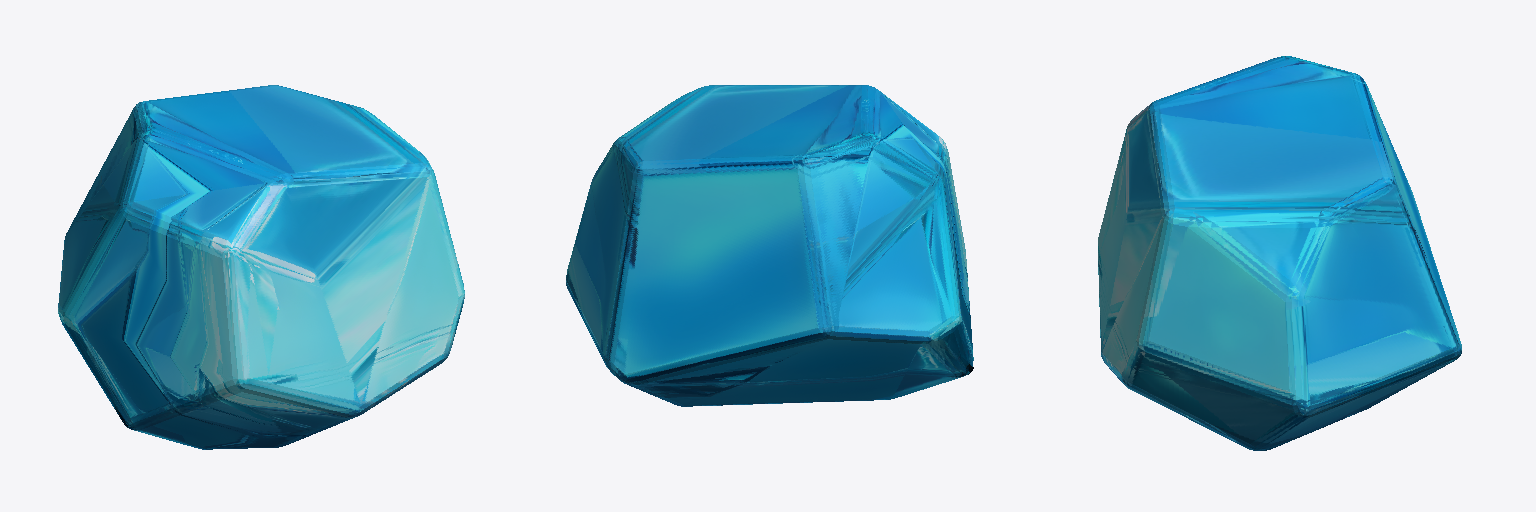
3 views of the same model, side by side, from view 1: azimuth 30°, elevation 25°; view 2: azimuth 150°, elevation 25°; view 3: azimuth 270°, elevation 25° (orthographic).
Parts seen in each view (by area): view 1: Cube; view 2: Cube; view 3: Cube.
Boxes of the visible parts, <box> form: Cube: <box>58,85,464,449</box>; Cube: <box>566,85,973,406</box>; Cube: <box>1098,56,1461,450</box>.
Bounding box in the file's own units: 3.12 × 2.34 × 2.59.
1 materials, 1 textured.